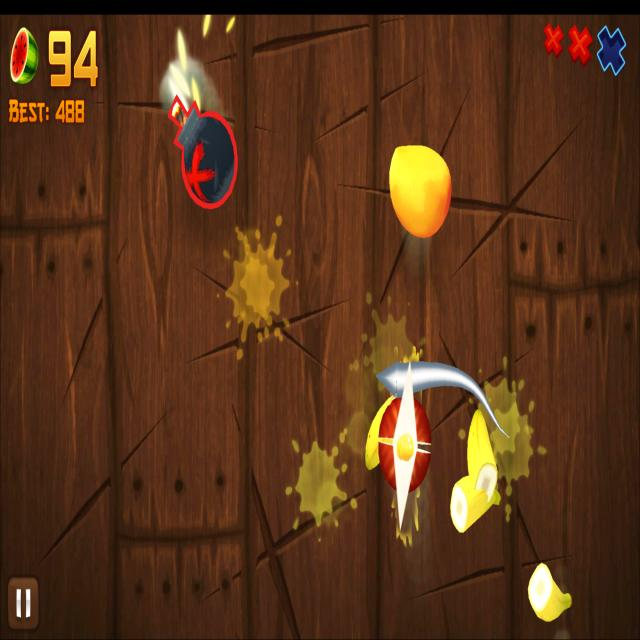bomb: (166, 94, 238, 209)
fruit: (389, 146, 452, 238)
